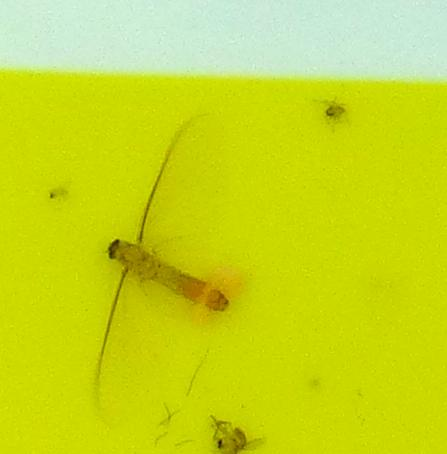Araneae: (323, 100, 347, 122)
Ephemeroptera: (100, 157, 232, 354)
Nematocera: (207, 409, 267, 454)
